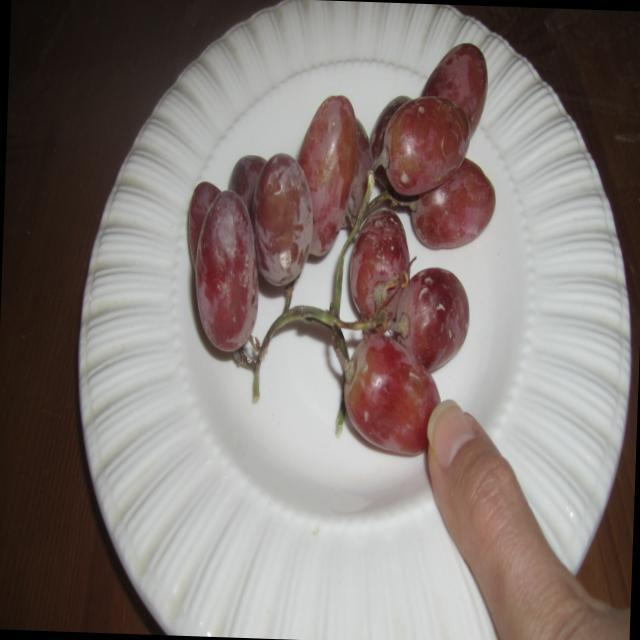Finger: (418, 399, 530, 585)
Grapes: (179, 16, 504, 402)
